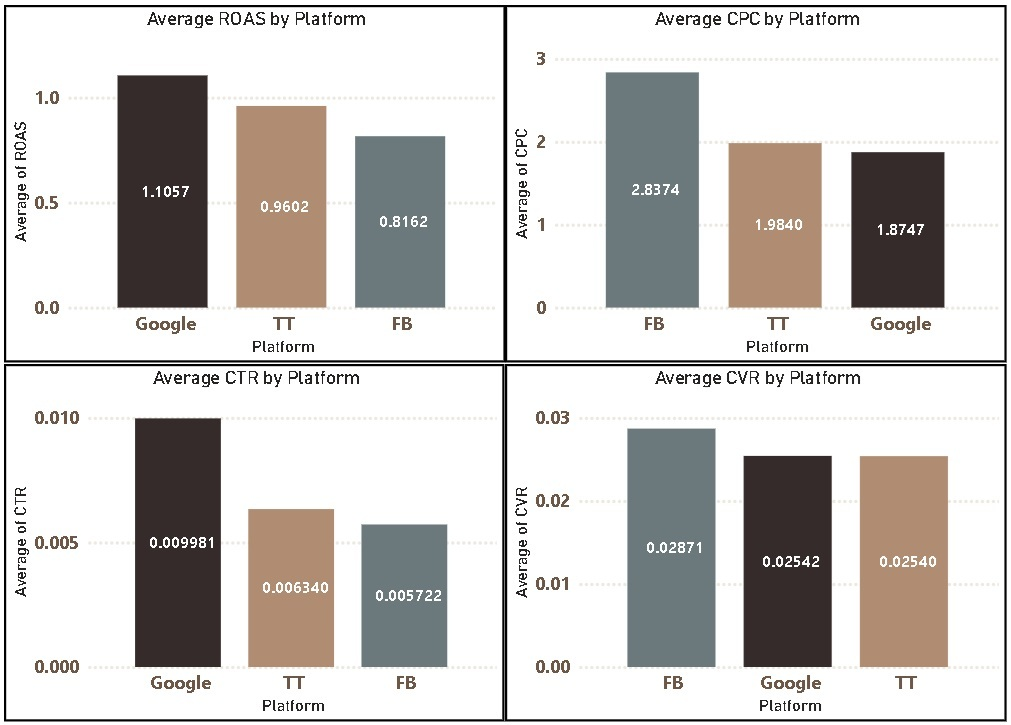

The dashboard page shown, as its layout file describes it:
{"tool":"powerbi","page":{"name":"Creative-Region Performance Comparison","canvas":[1280,720],"ordinal":8},"visuals":[{"type":"tableEx","fields":{"Values":["Sheet1.Creative_Type","Sheet1.Campaign"]},"box":[1161,0,119.2,165],"z":0},{"type":"clusteredColumnChart","fields":{"Category":["Sheet1.Creative_Type"],"Y":["Avg(Sheet1.ROAS)"],"Series":["Sheet1.Region"]},"box":[0,0,644,345],"z":1000},{"type":"clusteredColumnChart","fields":{"Category":["Sheet1.Creative_Type"],"Y":["Avg(Sheet1.CPC)"],"Series":["Sheet1.Region"]},"box":[636,0,644,345],"z":2000},{"type":"clusteredColumnChart","fields":{"Category":["Sheet1.Creative_Type"],"Y":["Avg(Sheet1.CVR)"],"Series":["Sheet1.Region"]},"box":[636,345,644,345],"z":3000},{"type":"clusteredColumnChart","fields":{"Category":["Sheet1.Creative_Type"],"Y":["Avg(Sheet1.CTR)"],"Series":["Sheet1.Region"]},"box":[0,345,636,345],"z":4000}]}

Visuals, with their boxes on the page's 1280x720 design canvas (x1, y1, x2, y2). These are canvas units, not pixel positions in the 1011x725 screenshot, which may show the page scaled, cropped or inside an application window:
tableEx - Sheet1.Creative_Type x Sheet1.Campaign: 1161 0 1280 165
clusteredColumnChart - Sheet1.Creative_Type x Avg(Sheet1.ROAS): 0 0 644 345
clusteredColumnChart - Sheet1.Creative_Type x Avg(Sheet1.CPC): 636 0 1280 345
clusteredColumnChart - Sheet1.Creative_Type x Avg(Sheet1.CVR): 636 345 1280 690
clusteredColumnChart - Sheet1.Creative_Type x Avg(Sheet1.CTR): 0 345 636 690
